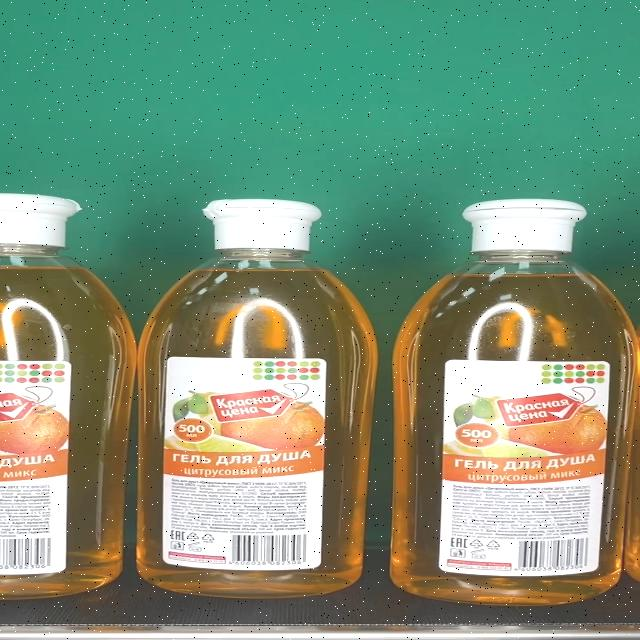Bottle: (391, 199, 640, 604), (136, 199, 378, 598)
Cap: (461, 199, 586, 252), (202, 199, 322, 249)
